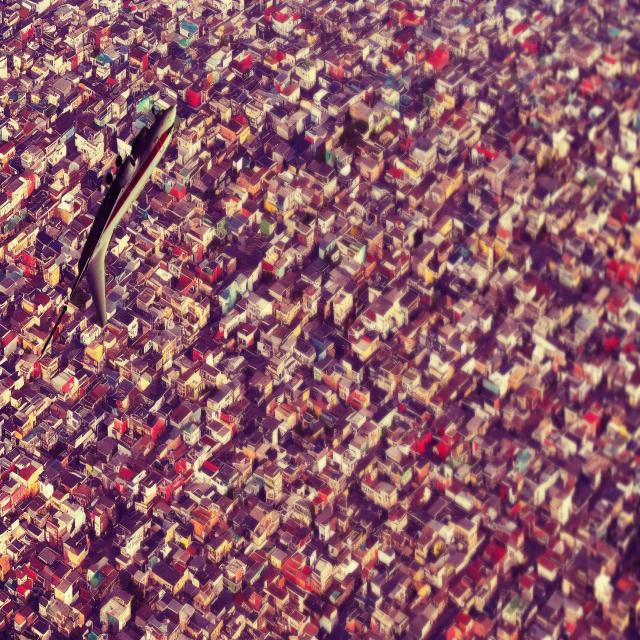airplane: (39, 100, 178, 358)
